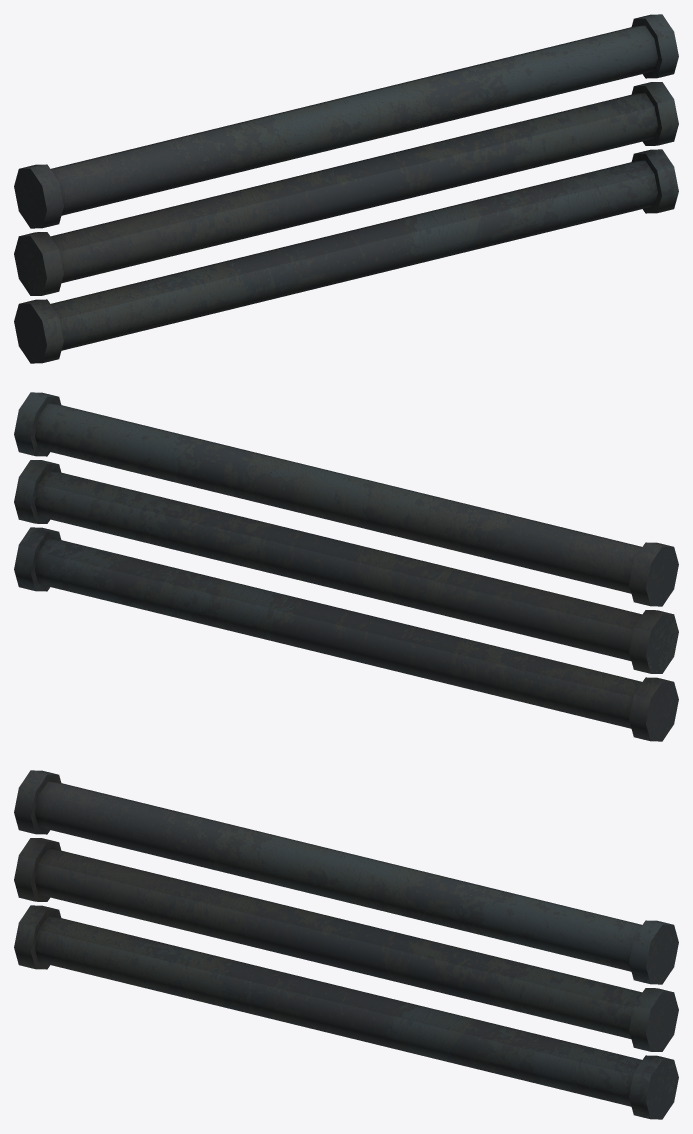
File: pipe2.fbx
The picture shows the model from 3 angles, top to bottom: view 1: azimuth 30°, elevation 25°; view 2: azimuth 150°, elevation 25°; view 3: azimuth 330°, elevation 25°; orthographic projection.
Parts seen in each view (by area): view 1: Cylinder; view 2: Cylinder; view 3: Cylinder.
Part boxes in pixels (x1,y1,x2,y2): Cylinder: [14, 14, 678, 363]; Cylinder: [14, 392, 678, 741]; Cylinder: [14, 770, 678, 1119].
Bounding box in the file's own units: 1470 × 433 × 133.
